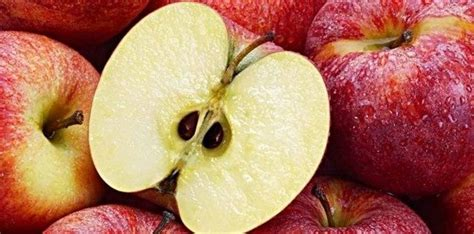apple: (302, 1, 473, 198), (1, 28, 106, 224)
